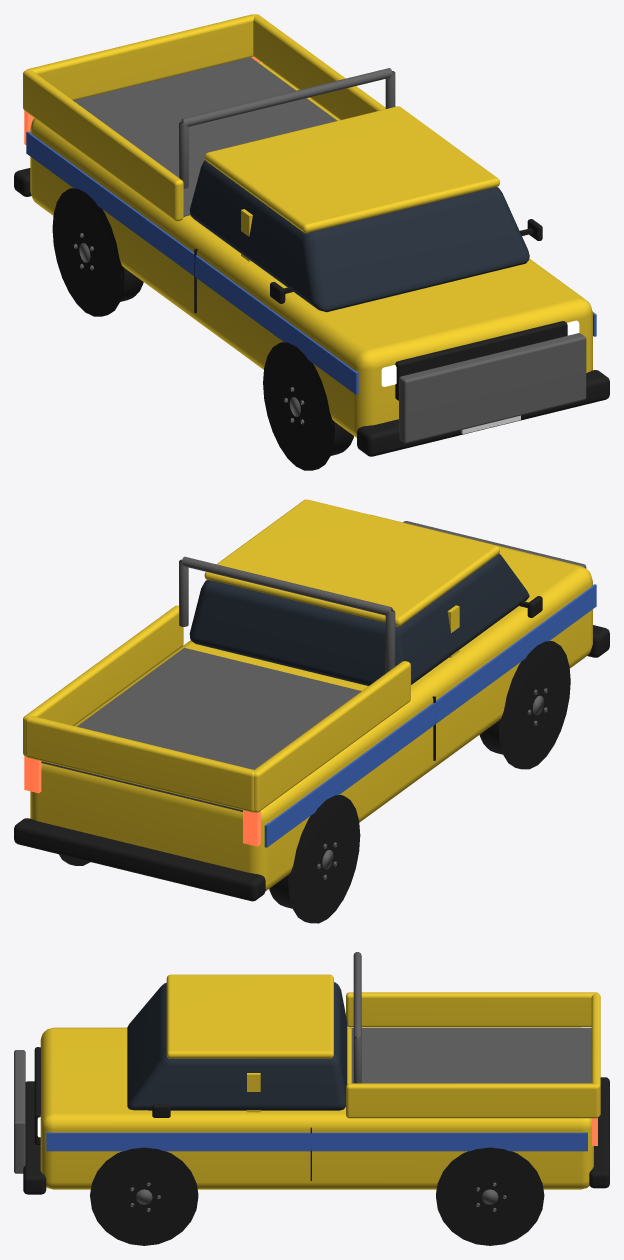
The model's file is police.glb.
3 renders of one model, top to bottom at view 1: azimuth 30°, elevation 25°; view 2: azimuth 150°, elevation 25°; view 3: azimuth 270°, elevation 25°, orthographic. The views are drawn at different scales.
Visible parts, largest first — view 1: V_police; view 2: V_police; view 3: V_police.
Boxes of the visible parts, bbox=[...] form: V_police: bbox=[14, 14, 609, 470]; V_police: bbox=[14, 499, 609, 923]; V_police: bbox=[14, 952, 609, 1245].
Bounding box in the file's own units: 2.17 × 1.95 × 5.17.
